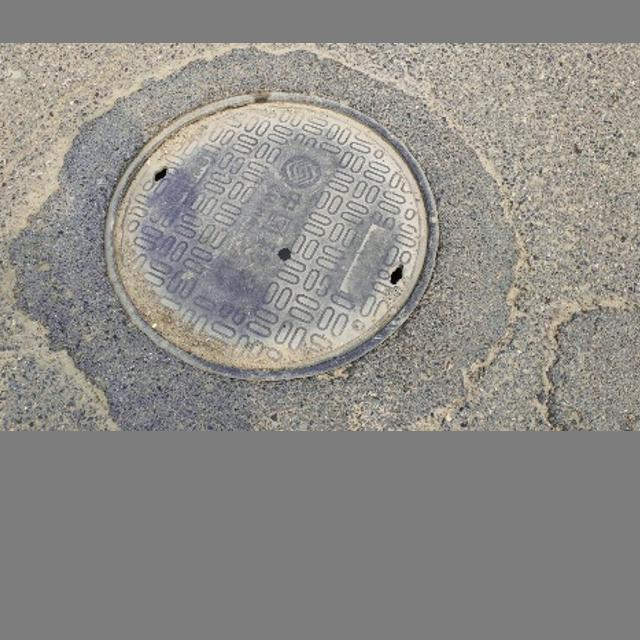good: (100, 97, 444, 389)
